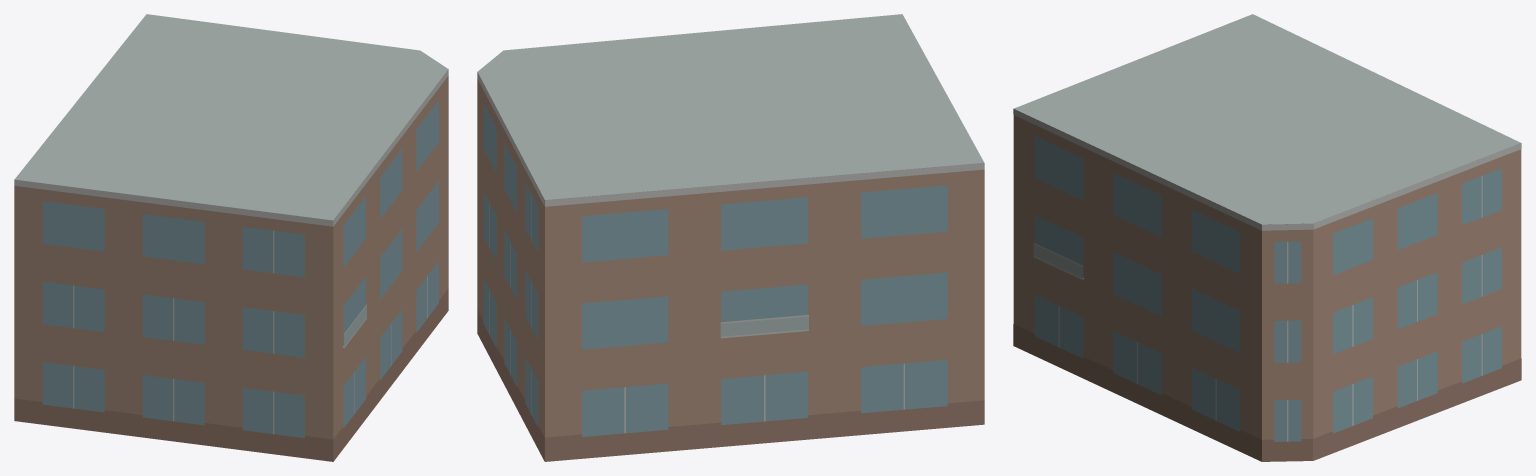
Rendered from survey-upis-32864647.glb.
The picture shows the model from 3 angles, left to right: view 1: azimuth 30°, elevation 25°; view 2: azimuth 150°, elevation 25°; view 3: azimuth 270°, elevation 25°; orthographic projection. The views are drawn at different scales.
Visible parts, largest first — view 1: survey-upis-32864647.tmp; view 2: survey-upis-32864647.tmp; view 3: survey-upis-32864647.tmp.
Part boxes in pixels (x1,y1,x2,y2): survey-upis-32864647.tmp: (14, 14, 448, 461); survey-upis-32864647.tmp: (477, 14, 984, 461); survey-upis-32864647.tmp: (1013, 14, 1521, 461).
Bounding box in the file's own units: 18.09 × 9.5 × 18.43.
